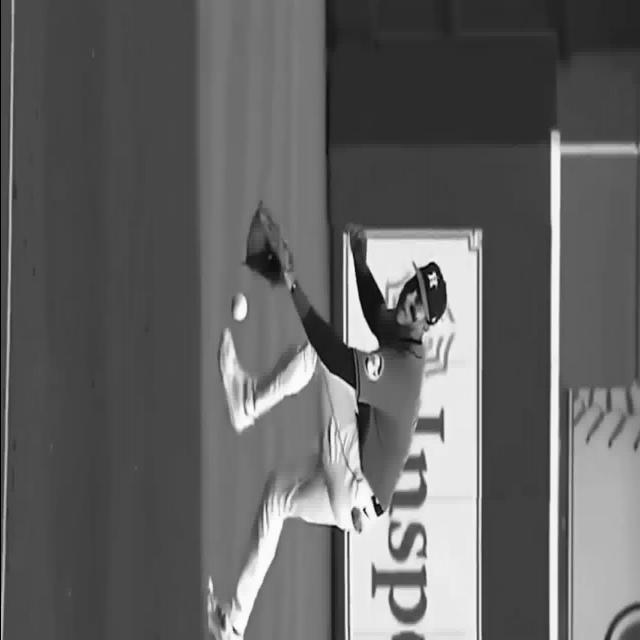baseball: (230, 292, 247, 322)
baseball_glove: (244, 206, 294, 289)
shoe: (218, 327, 254, 432), (207, 576, 240, 638)
